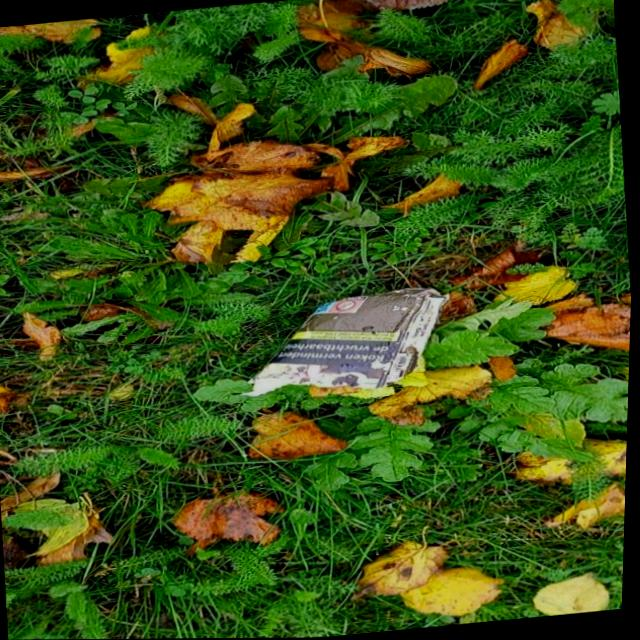Paper: (233, 282, 465, 403)
